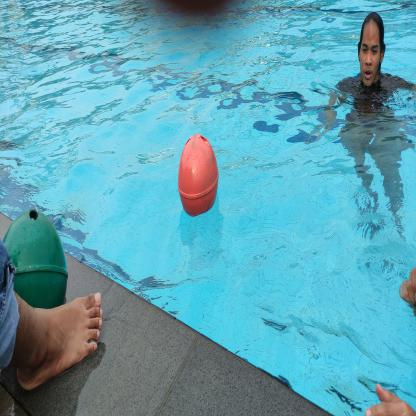green_buoy: (2, 205, 69, 315)
red_buoy: (176, 132, 221, 220)
